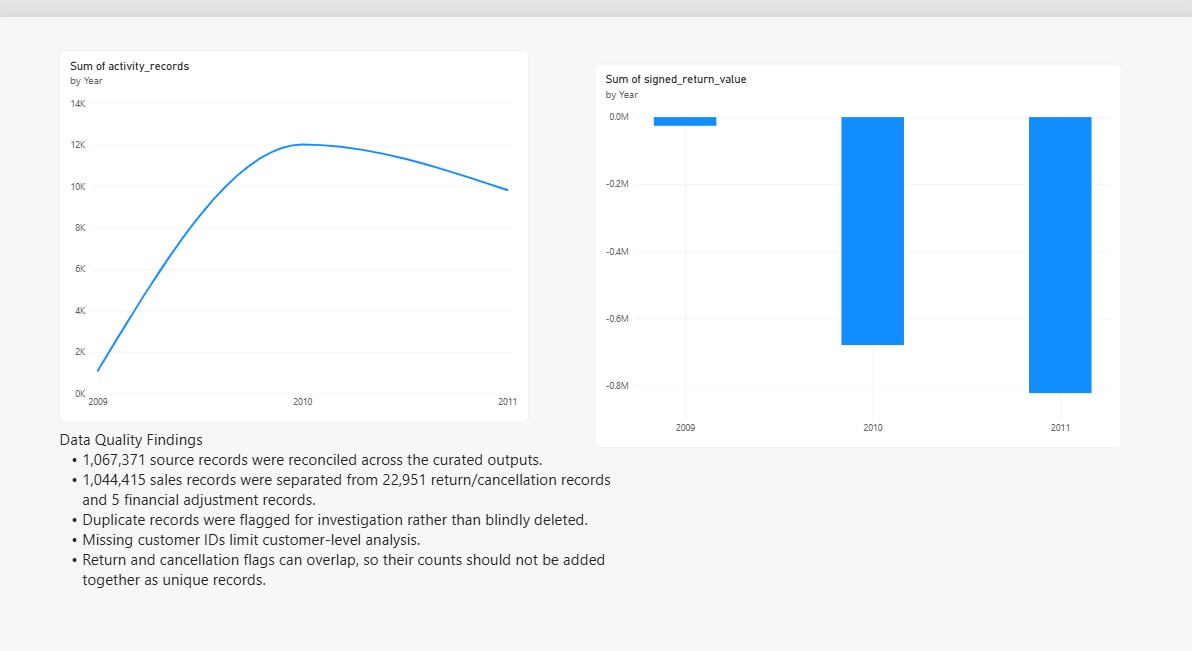

What the dashboard file says about the page in this screenshot:
{"tool":"powerbi","page":{"name":"Returns & Data Quality","canvas":[1920,1080],"ordinal":2},"visuals":[{"type":"lineChart","fields":{"Category":["monthly_cancellation.activity_month.Variation.Date Hierarchy.Year","monthly_cancellation.activity_month.Variation.Date Hierarchy.Quarter","monthly_cancellation.activity_month.Variation.Date Hierarchy.Month","monthly_cancellation.activity_month.Variation.Date Hierarchy.Day"],"Y":["Sum(monthly_cancellation.activity_records)"]},"box":[110.3,52.7,743.3,589.8],"z":0},{"type":"clusteredColumnChart","fields":{"Category":["monthly_cancellation.activity_month.Variation.Date Hierarchy.Year","monthly_cancellation.activity_month.Variation.Date Hierarchy.Quarter","monthly_cancellation.activity_month.Variation.Date Hierarchy.Month","monthly_cancellation.activity_month.Variation.Date Hierarchy.Day"],"Y":["Sum(monthly_cancellation.signed_return_value)"]},"box":[959.1,74.3,834.4,609],"z":1},{"type":"textbox","box":[110.3,652.2,908.7,426.8],"z":2},{"type":"textbox","box":[959.1,683.3,834.4,206.2],"z":3}]}

Visuals, with their boxes in screenshot pixels (x1, y1, x2, y2), scaled from the page's 1920x1080 canvas onto the 1192x651 screenshot:
lineChart - monthly_cancellation.activity_month.Variation.Date Hierarchy.Year x monthly_cancellation.activity_month.Variation.Date Hierarchy.Quarter: locate(68, 32, 530, 387)
clusteredColumnChart - monthly_cancellation.activity_month.Variation.Date Hierarchy.Year x monthly_cancellation.activity_month.Variation.Date Hierarchy.Quarter: locate(595, 45, 1113, 412)
textbox: locate(68, 393, 633, 650)
textbox: locate(595, 412, 1113, 536)
